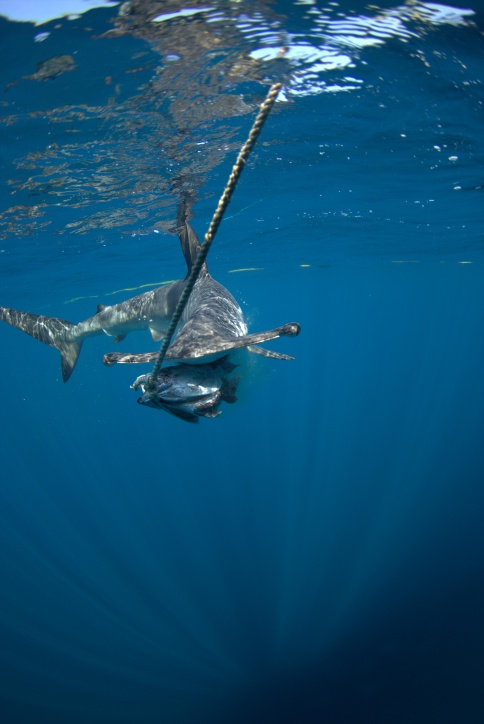Hammer: (12, 222, 314, 434)
